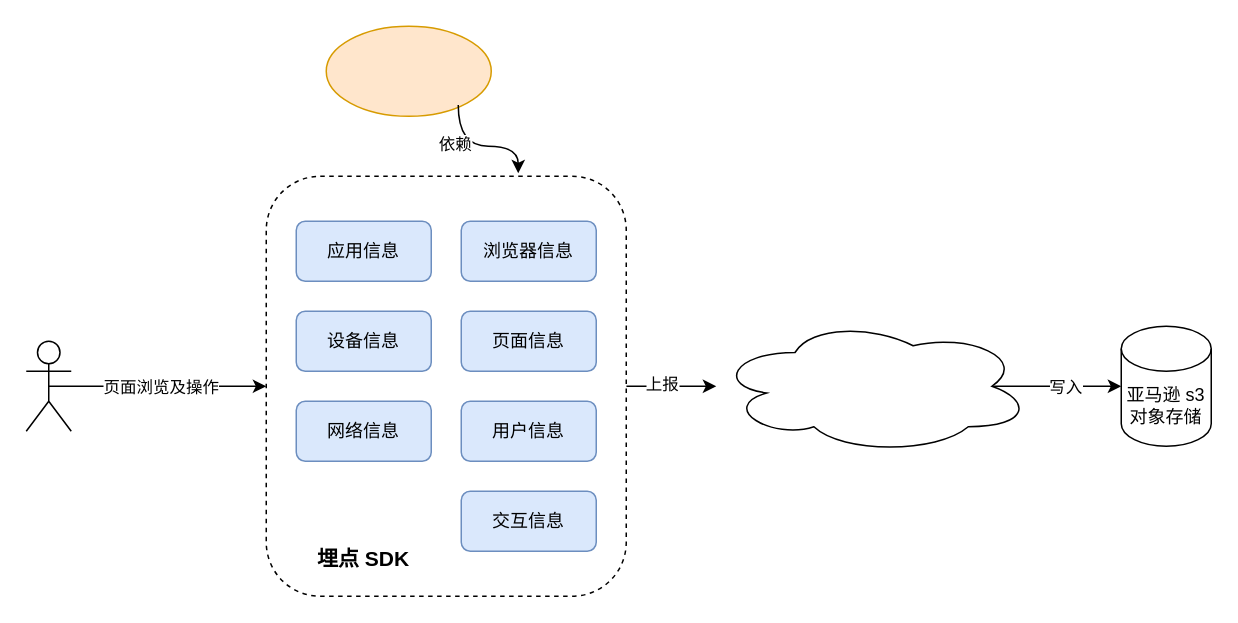
The diagram is 1238 pixels wide and 623 high, and some of its shapes have lost their labels. The centre of each missing label's shape, as x and y in pixels:
Actor: the point at 48,385
ozone-schema: the point at 408,70
t2.xiaohongshu.com: the point at 873,385
